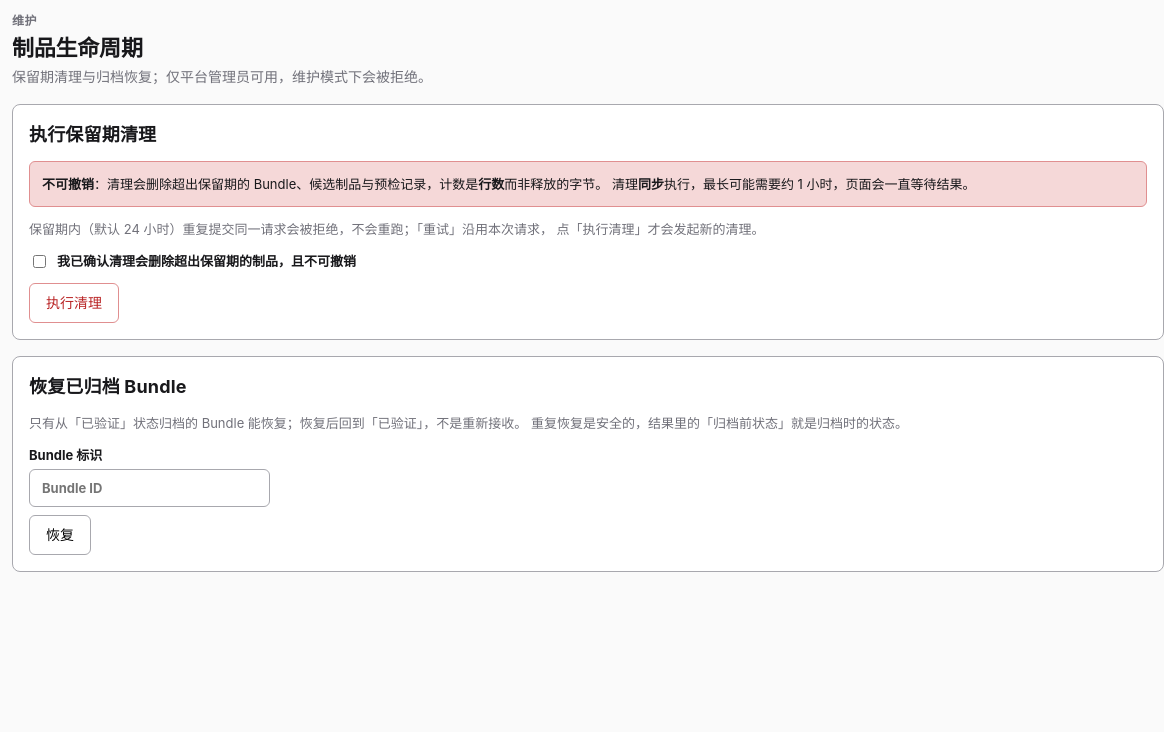
Test: ArtifactLifecyclePage › requires an acknowledgement before it will run the collector
Click the button with test id "cleanup-run".
click(74, 303)  # box [29,283,119,323]
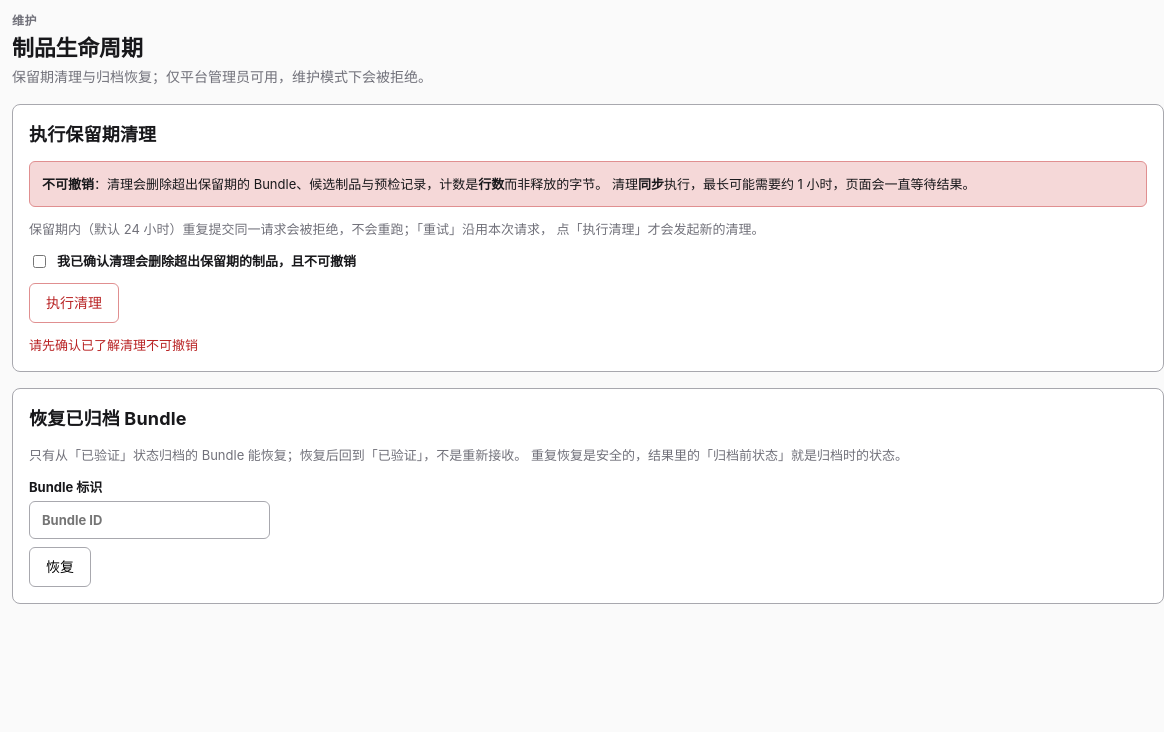
Check: the message with test id "cleanup-validation" shows "不可撤销", box [29,337,198,353]
